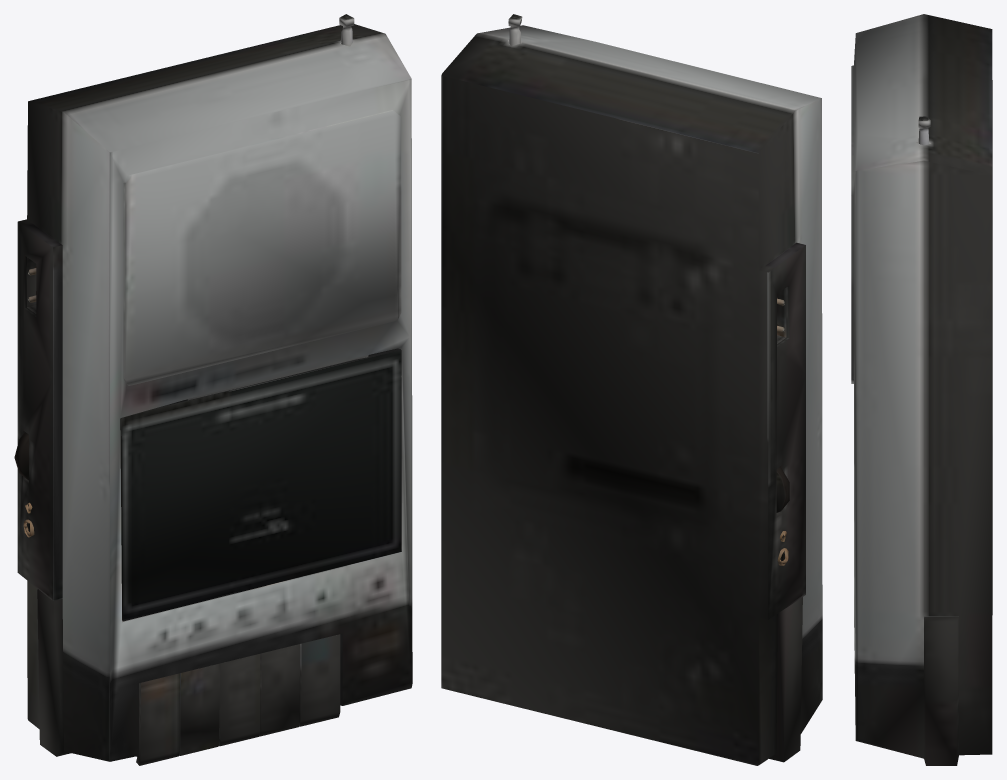
The model's file is cassette_player.glb.
The picture shows the model from 3 angles, left to right: view 1: azimuth 30°, elevation 25°; view 2: azimuth 150°, elevation 25°; view 3: azimuth 270°, elevation 25°; orthographic projection. The views are drawn at different scales.
Parts seen in each view (by area): view 1: cassette_player_body; view 2: cassette_player_body; view 3: cassette_player_body.
Boxes of the visible parts, bbox=[...] form: cassette_player_body: bbox=[14, 14, 412, 765]; cassette_player_body: bbox=[441, 14, 822, 765]; cassette_player_body: bbox=[851, 14, 992, 765].
Bounding box in the file's own units: 0.1295 × 0.2363 × 0.0484.
3 materials, 3 textured.
